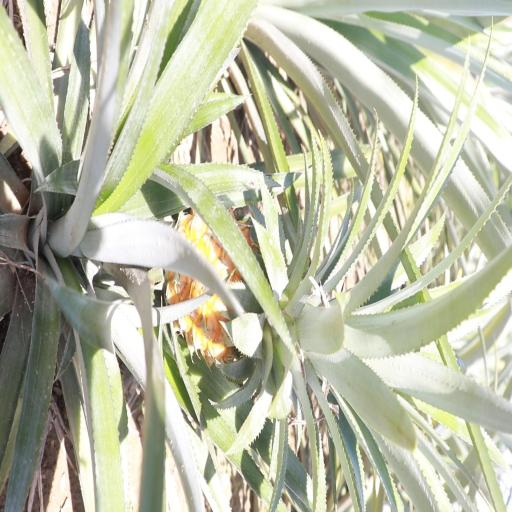Pineapple - v8 v1: (171, 204, 428, 384)
